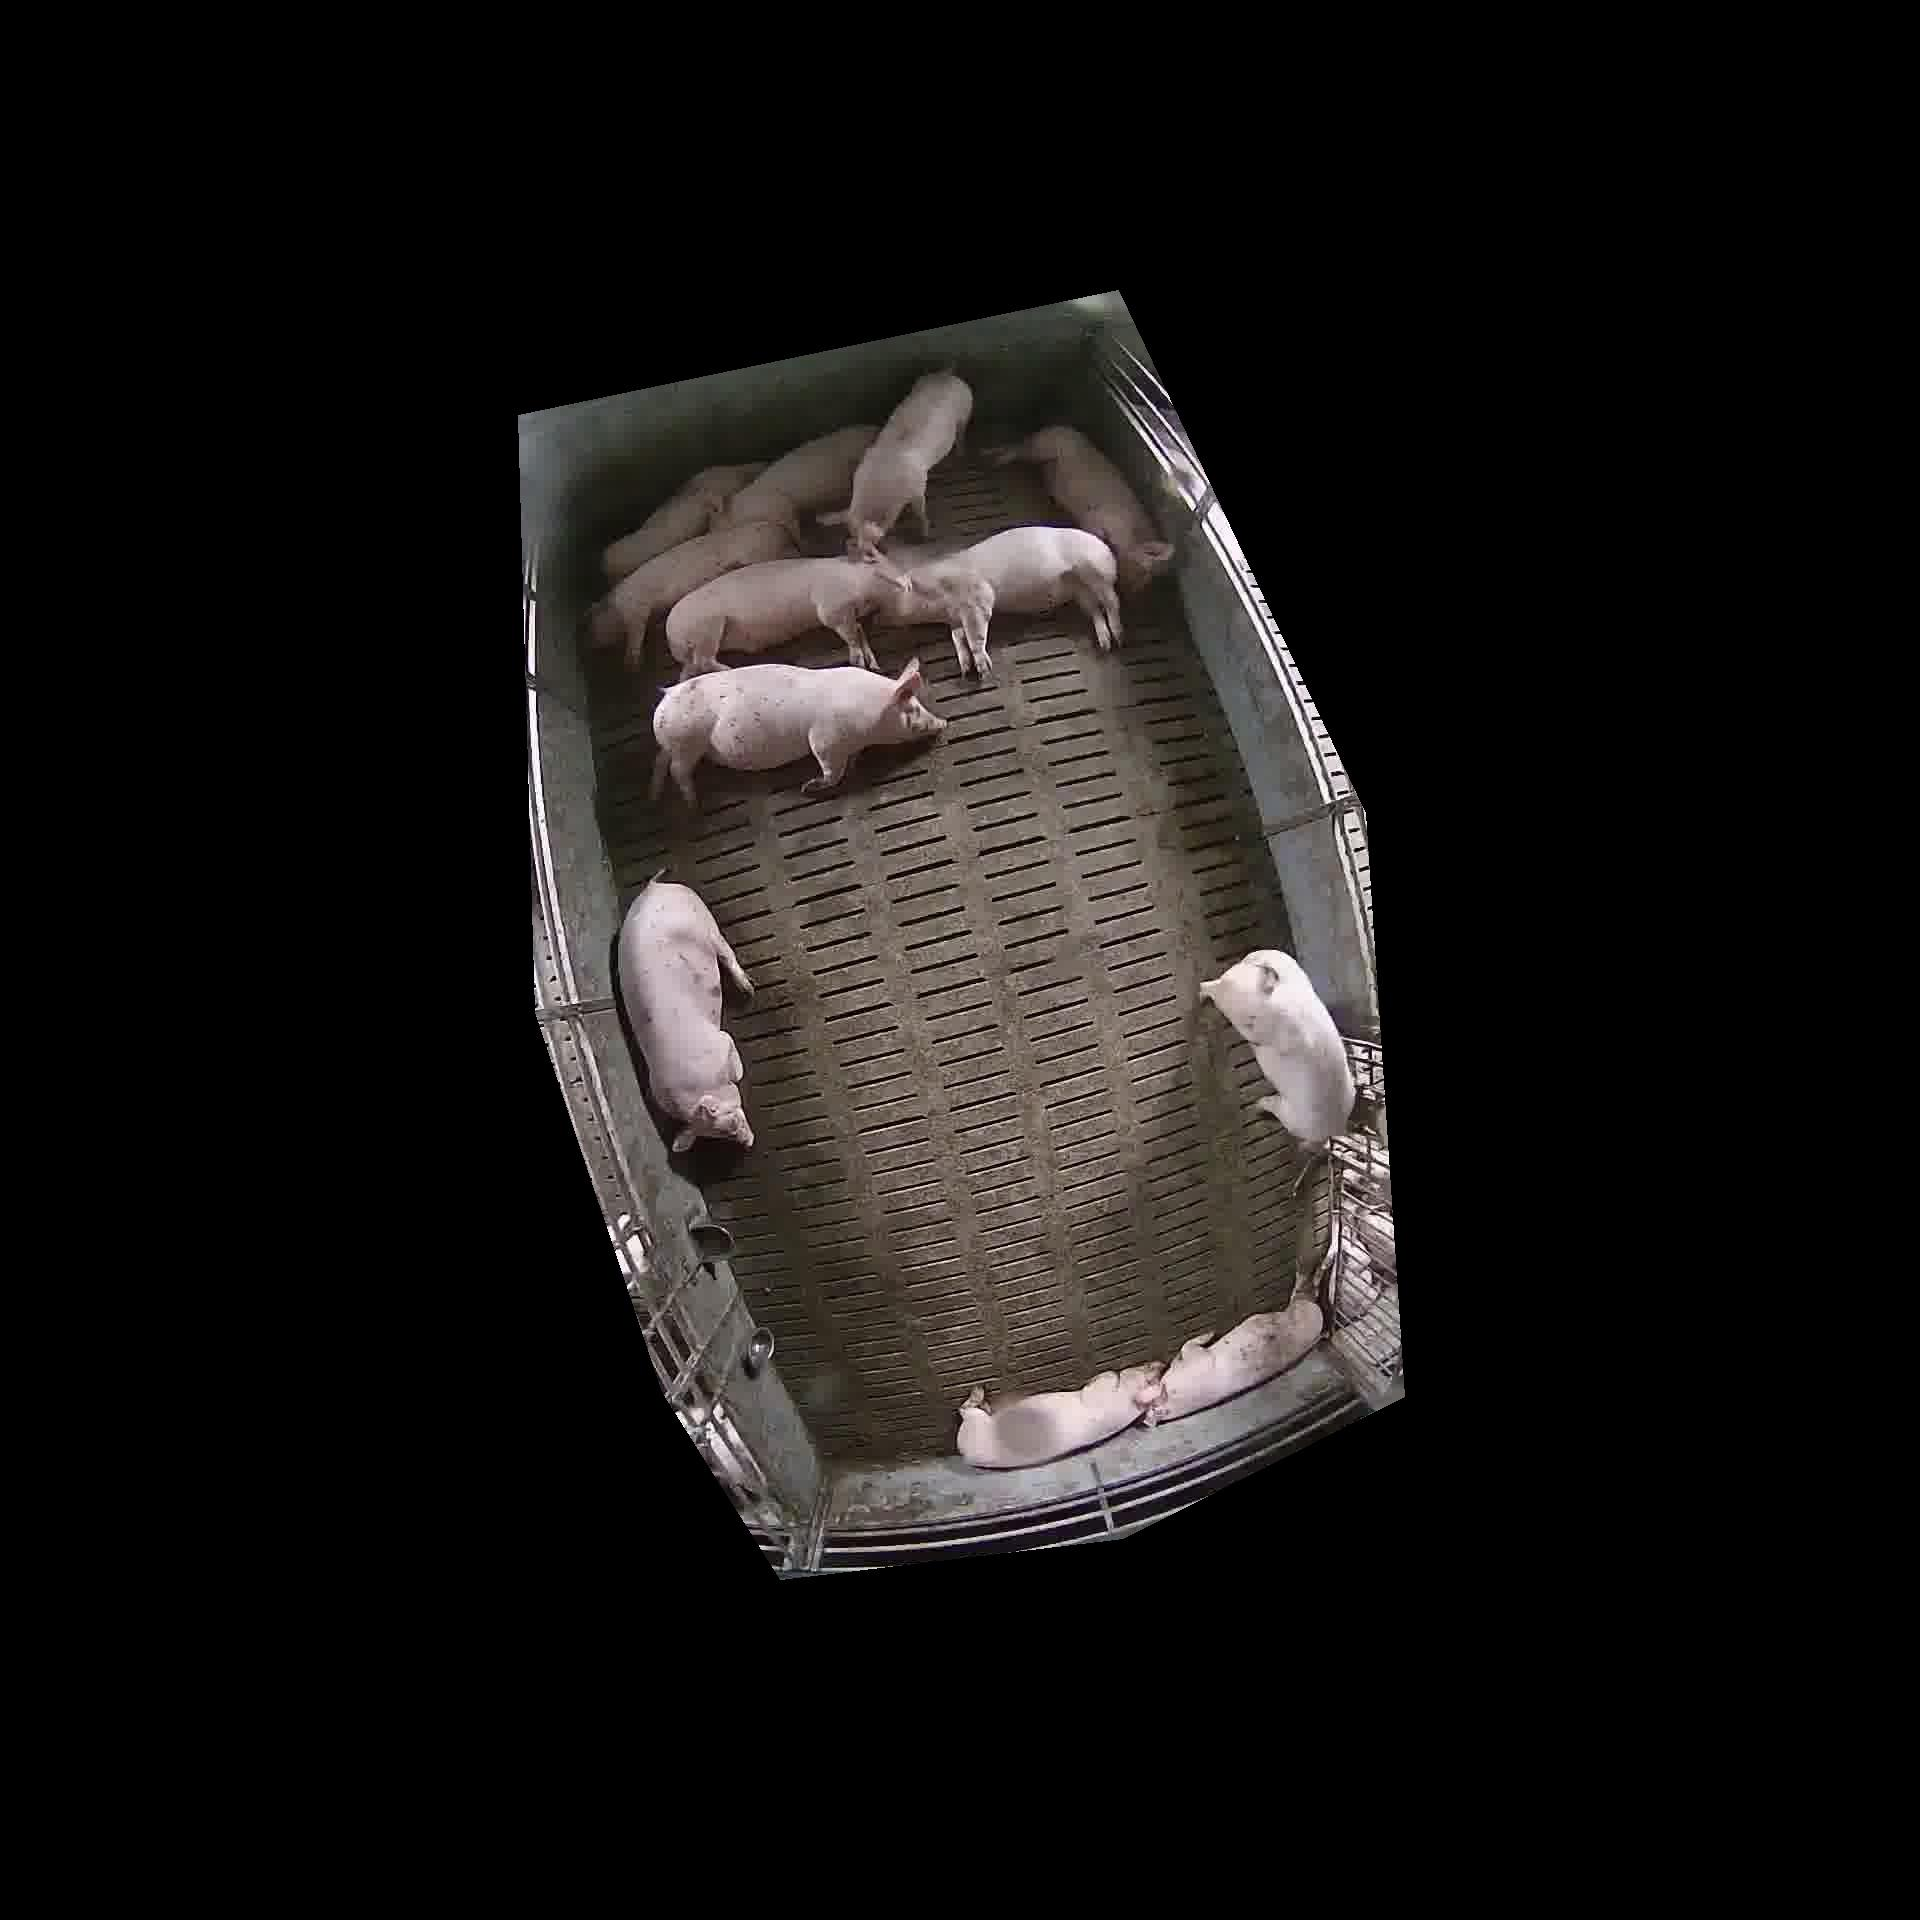pig: (651, 659, 944, 805), (617, 879, 753, 1152), (877, 526, 1122, 675), (986, 425, 1173, 593), (1201, 949, 1354, 1150), (589, 520, 796, 666), (666, 557, 907, 679), (825, 369, 972, 557), (1145, 1298, 1322, 1422), (956, 1363, 1162, 1466), (603, 462, 765, 582), (716, 425, 877, 533)
